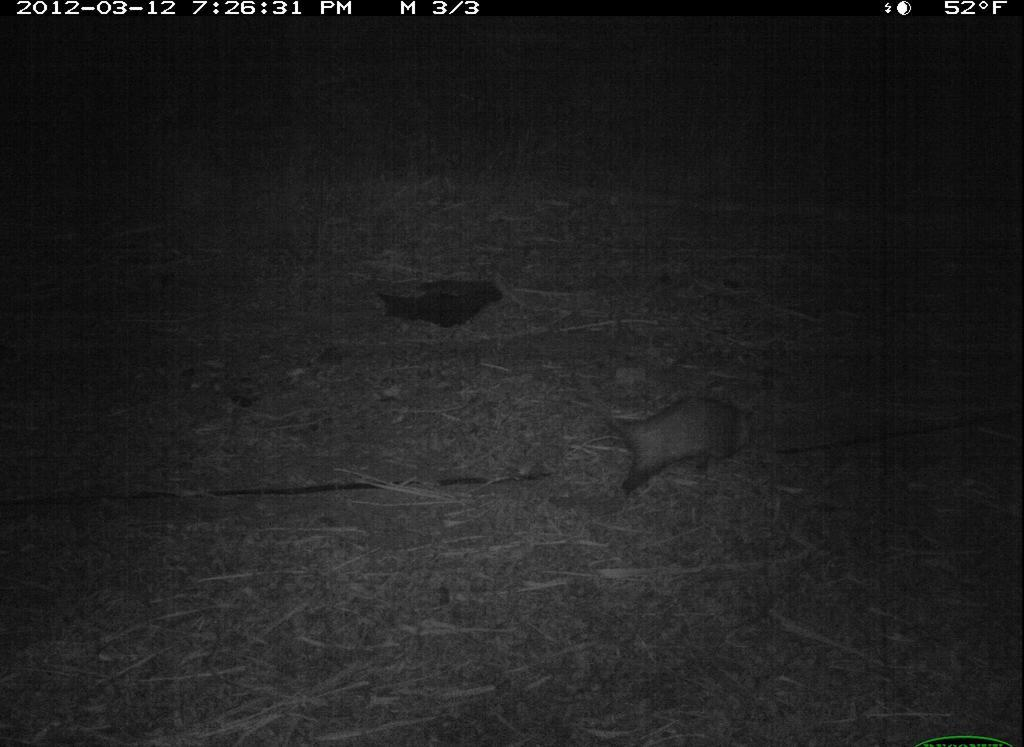opossum: (578, 377, 765, 504)
